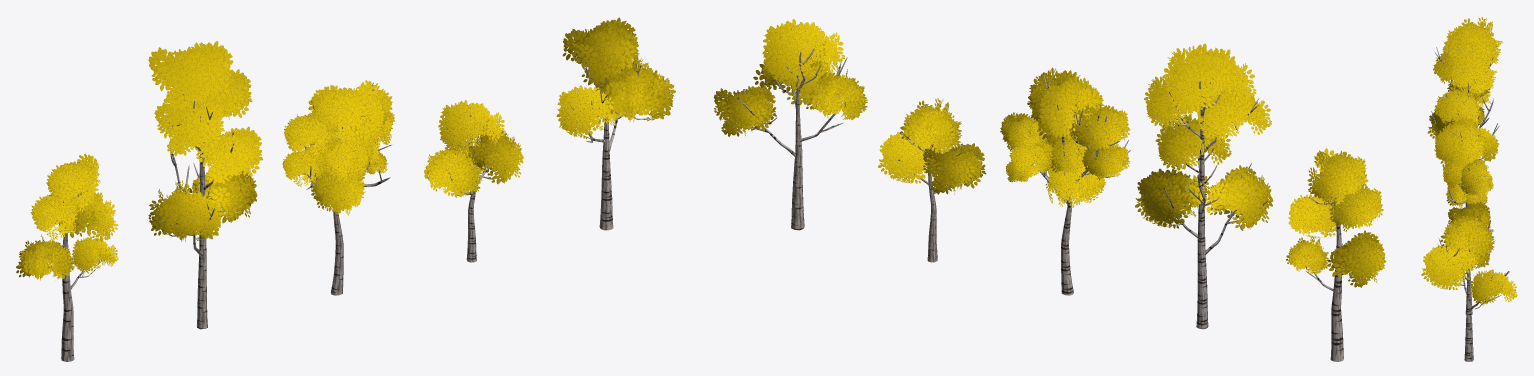
Rendered from Birch Trees.fbx.
3 views of the same model, side by side, from view 1: azimuth 30°, elevation 25°; view 2: azimuth 150°, elevation 25°; view 3: azimuth 270°, elevation 25° (orthographic). The views are drawn at different scales.
Visible parts, largest first — view 1: Birch Tree 2, Birch Tree 3, Birch Tree 5, Birch Tree 1, Birch Tree 4; view 2: Birch Tree 2, Birch Tree 3, Birch Tree 5, Birch Tree 1, Birch Tree 4; view 3: Birch Tree 2, Birch Tree 5, Birch Tree 3, Birch Tree 4, Birch Tree 1.
Boxes of the visible parts, <box> form: Birch Tree 2: <box>148,41,262,329</box>; Birch Tree 3: <box>282,80,394,295</box>; Birch Tree 5: <box>556,17,675,230</box>; Birch Tree 1: <box>16,153,118,361</box>; Birch Tree 4: <box>424,100,523,262</box>; Birch Tree 2: <box>1135,43,1273,329</box>; Birch Tree 3: <box>1000,67,1130,295</box>; Birch Tree 5: <box>713,19,867,230</box>; Birch Tree 1: <box>1286,148,1386,361</box>; Birch Tree 4: <box>878,98,986,262</box>; Birch Tree 2: <box>1427,17,1503,208</box>; Birch Tree 5: <box>1421,209,1517,361</box>; Birch Tree 3: <box>1434,117,1493,267</box>; Birch Tree 4: <box>1448,201,1491,314</box>; Birch Tree 1: <box>1440,47,1490,125</box>.
Bounding box in the file's own units: 7293 × 3028 × 1406.
